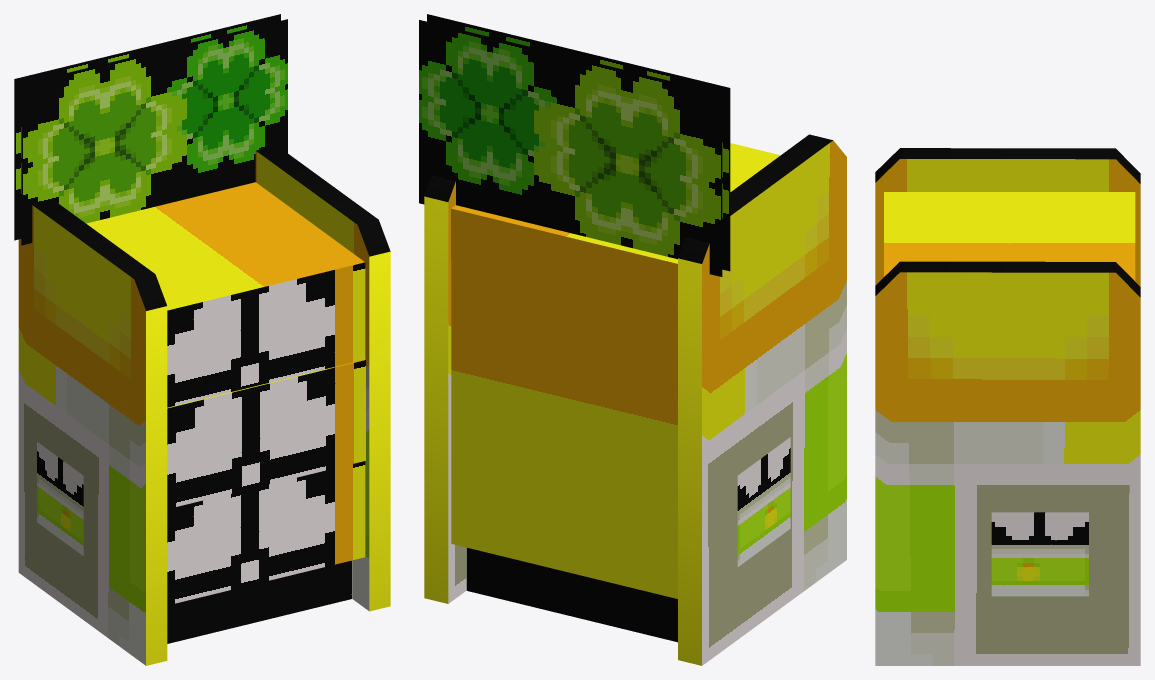
3 renders of one model, left to right at view 1: azimuth 30°, elevation 25°; view 2: azimuth 150°, elevation 25°; view 3: azimuth 270°, elevation 25°, orthographic. The views are drawn at different scales.
Parts seen in each view (by area): view 1: 3853kg3_ser34; view 2: 3853kg3_ser34; view 3: 3853kg3_ser34.
Part boxes in pixels (x1,y1,x2,y2): 3853kg3_ser34: (14,14,390,665); 3853kg3_ser34: (419,14,846,665); 3853kg3_ser34: (875,148,1140,665).
Bounding box in the file's own units: 0.8823 × 1.58 × 0.7295.
2 materials, 2 textured.
